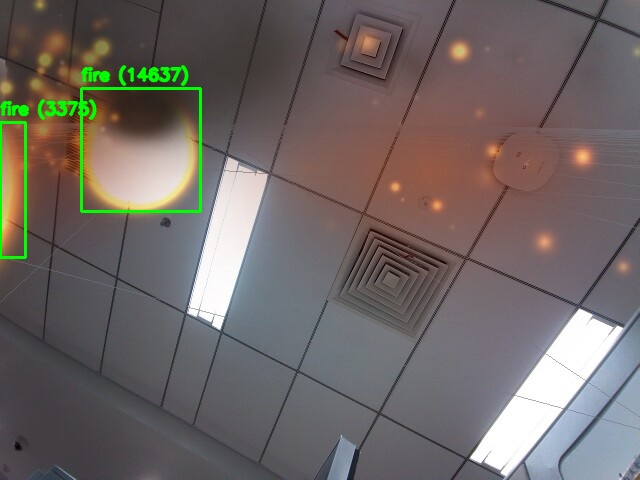fire: (81, 88, 200, 211), (0, 122, 25, 257)
